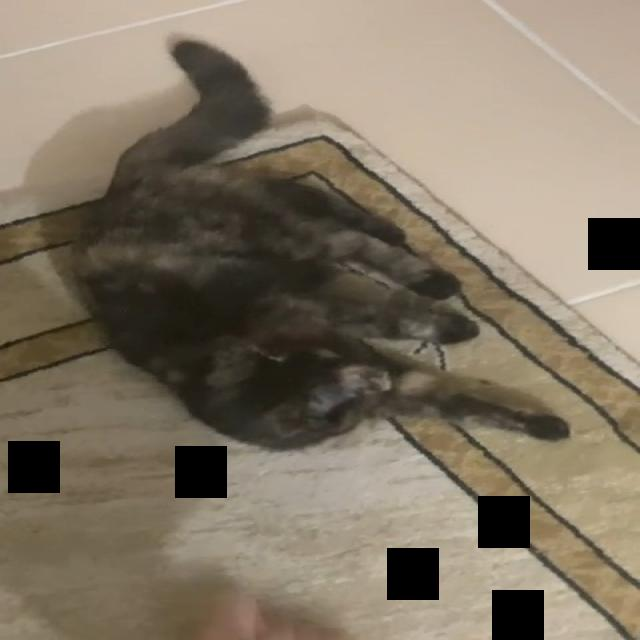authorized: (49, 32, 571, 452)
